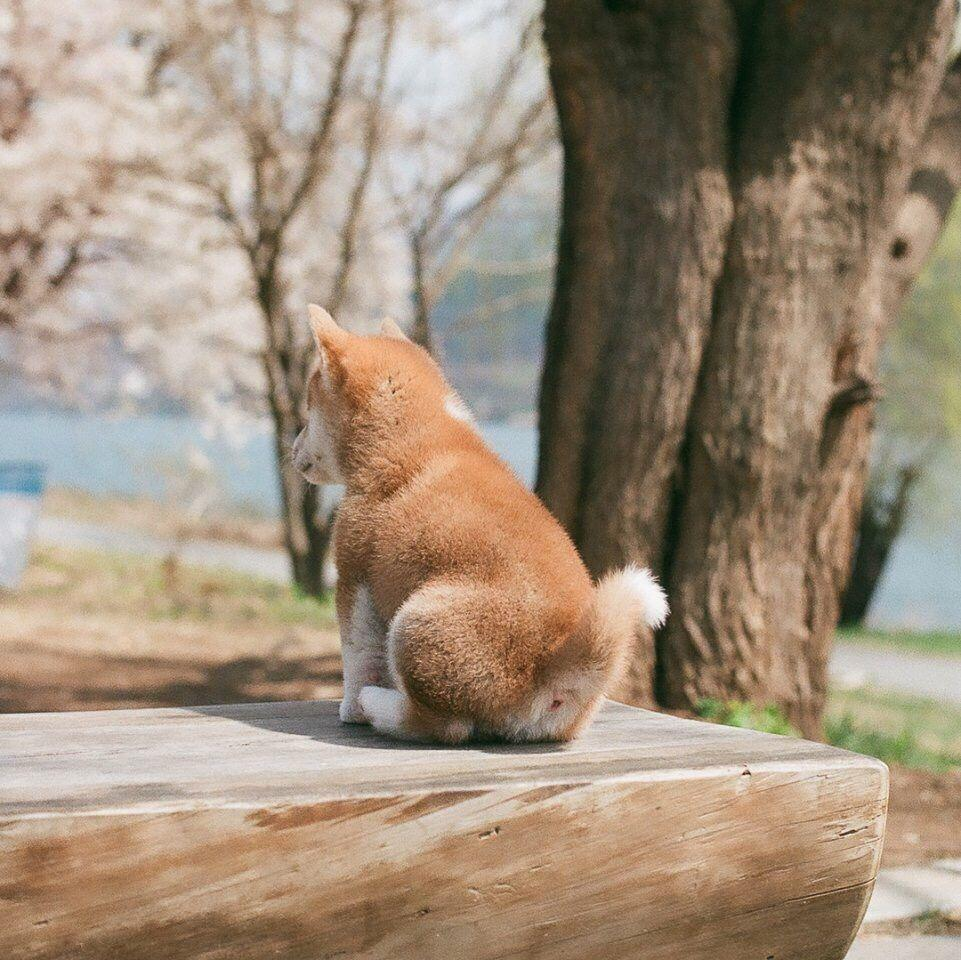puppy-dog: (285, 300, 673, 757)
